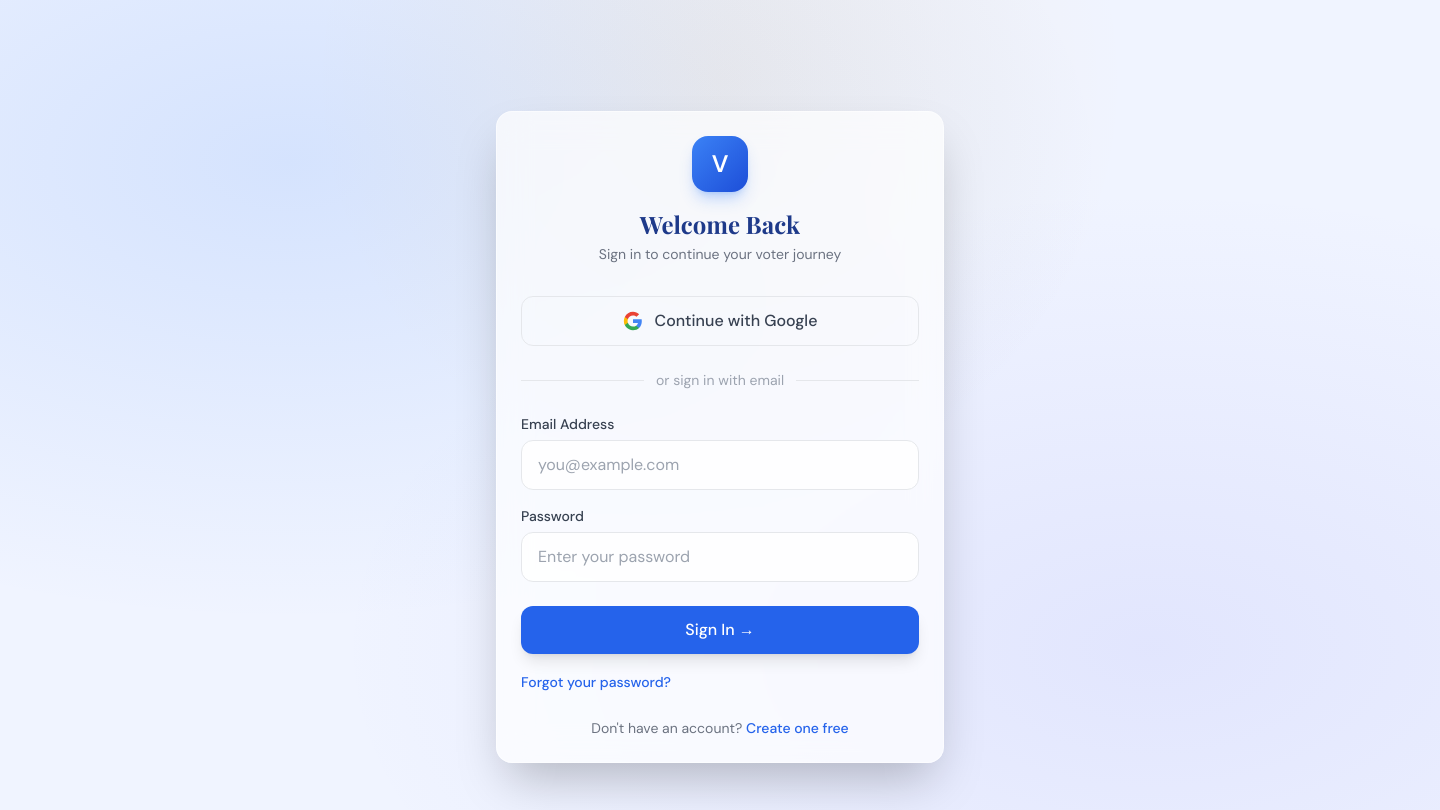
it: Login Page › shows reset email form when forgot password clicked
Type "test@example.com" into the field labelled "Email Address" at (720, 465), box [521, 440, 919, 490]
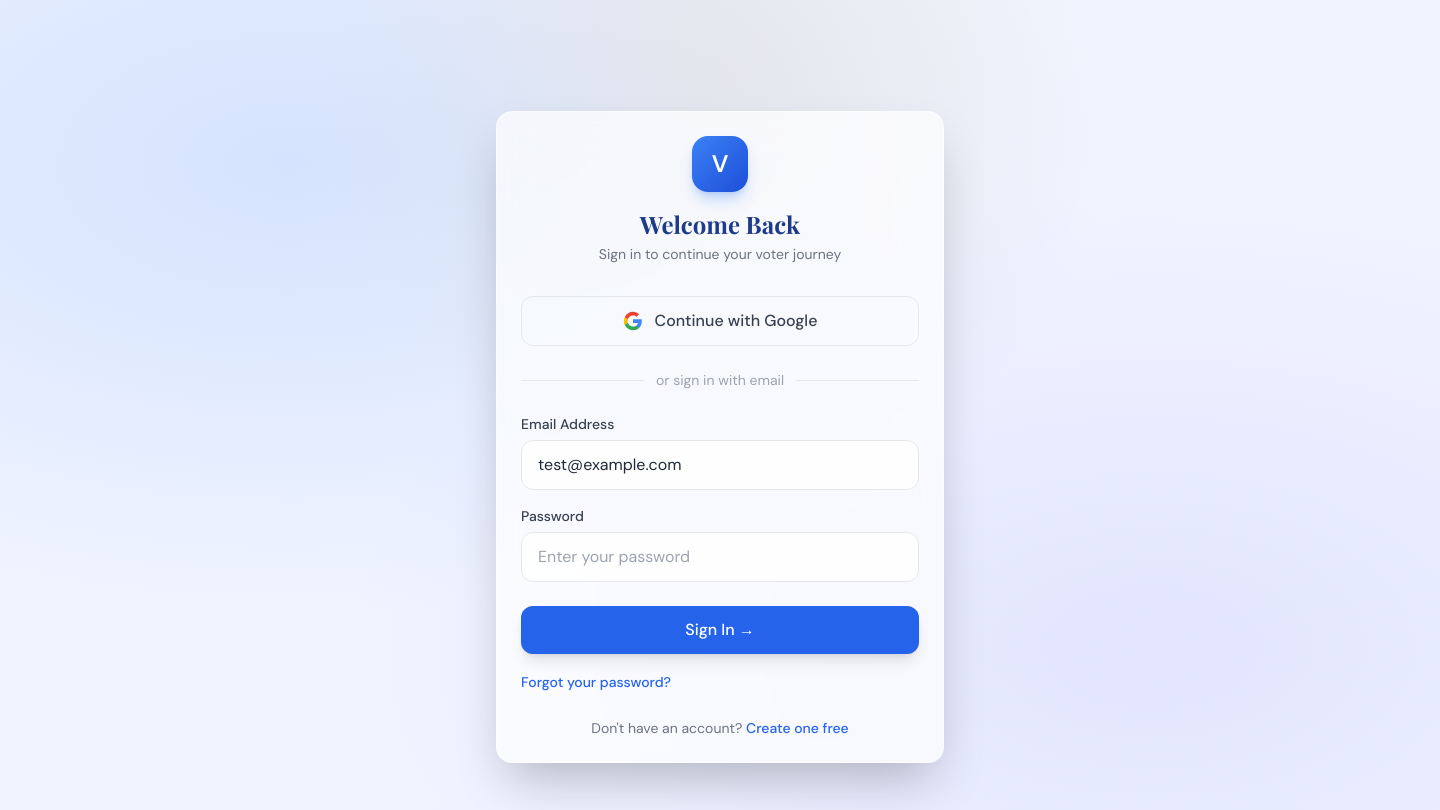
Click the button "Forgot your password?" at (596, 682), box [521, 672, 671, 692]
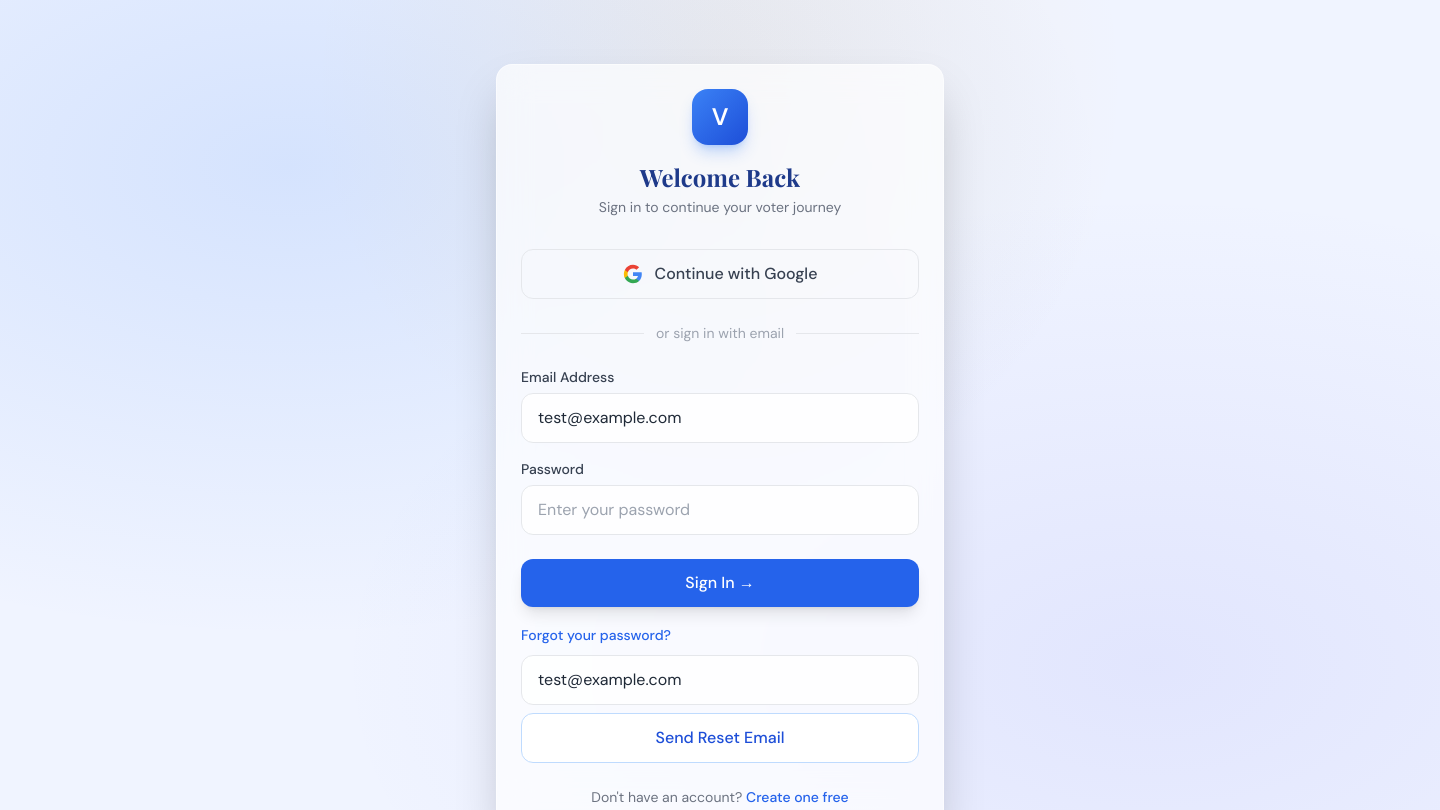
Expected: the field with placeholder "Enter your email" is shown, [521, 655, 919, 705]
